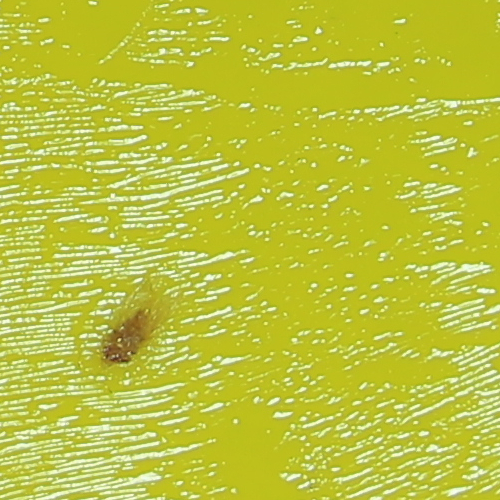Glycaspis: (98, 308, 155, 364)
